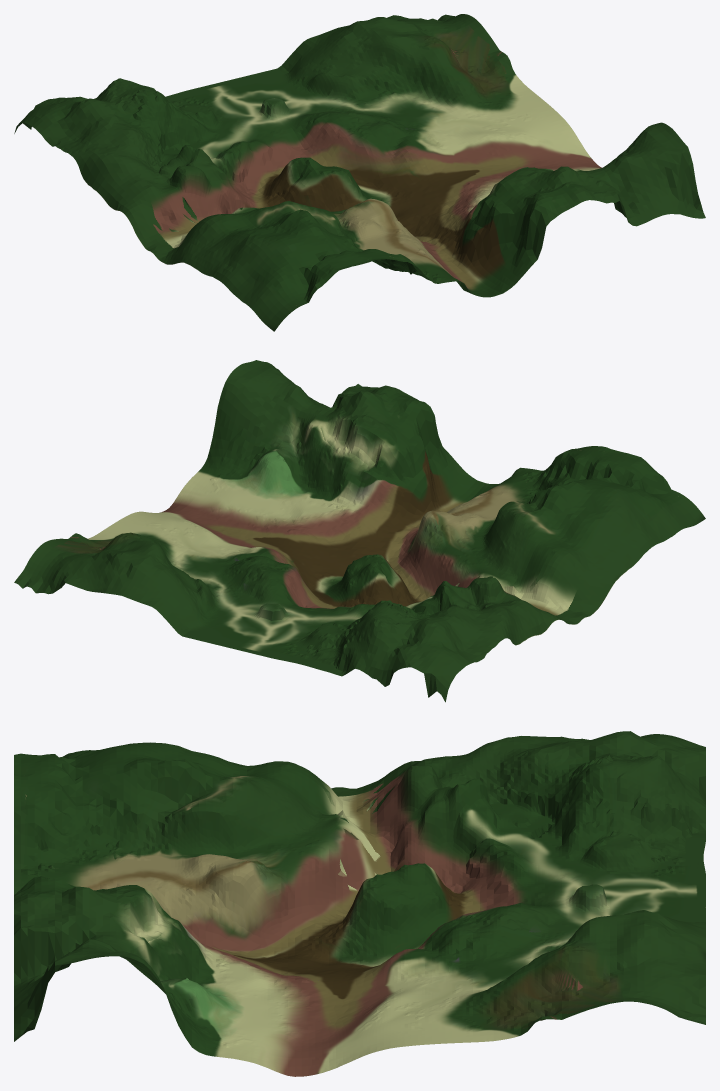
The picture shows the model from 3 angles, top to bottom: view 1: azimuth 30°, elevation 25°; view 2: azimuth 150°, elevation 25°; view 3: azimuth 270°, elevation 25°; orthographic projection. The views are drawn at different scales.
Visible parts, largest first — view 1: copysT11; view 2: copysT11; view 3: copysT11.
Part boxes in pixels (x1,y1,x2,y2): copysT11: (14, 14, 705, 331); copysT11: (14, 360, 705, 702); copysT11: (14, 731, 705, 1076).
Bounding box in the file's own units: 31046 × 7066 × 32440.
